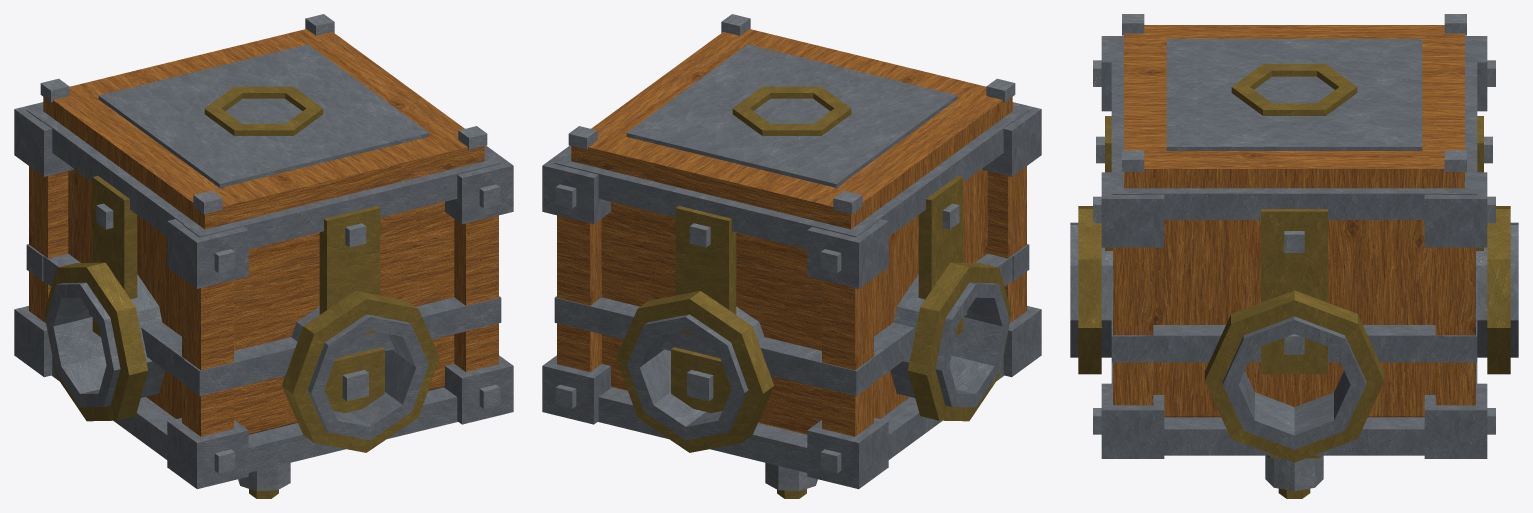
The model's file is fluid_infuser.gltf.
3 views of the same model, side by side, from view 1: azimuth 30°, elevation 25°; view 2: azimuth 150°, elevation 25°; view 3: azimuth 270°, elevation 25° (orthographic). The views are drawn at different scales.
Size of the model in its own units: 1 by 1 by 1.
Materials: 4 (4 with a texture image).
